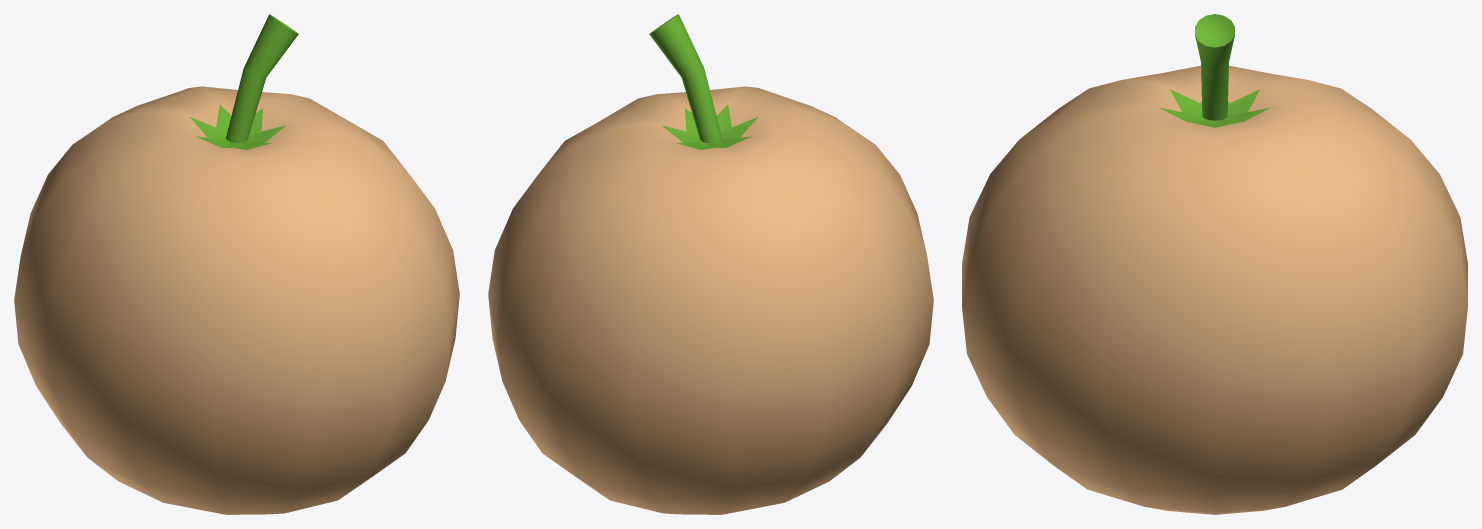
File: orange.fbx
The picture shows the model from 3 angles, left to right: view 1: azimuth 30°, elevation 25°; view 2: azimuth 150°, elevation 25°; view 3: azimuth 270°, elevation 25°; orthographic projection. The views are drawn at different scales.
Parts seen in each view (by area): view 1: pSphere32; view 2: pSphere32; view 3: pSphere32.
Boxes of the visible parts, x1,y1,x2,y2 form: pSphere32: (14,14,459,514); pSphere32: (488,14,933,514); pSphere32: (962,14,1467,514).
Bounding box in the file's own units: 2.49 × 2.86 × 2.71.
